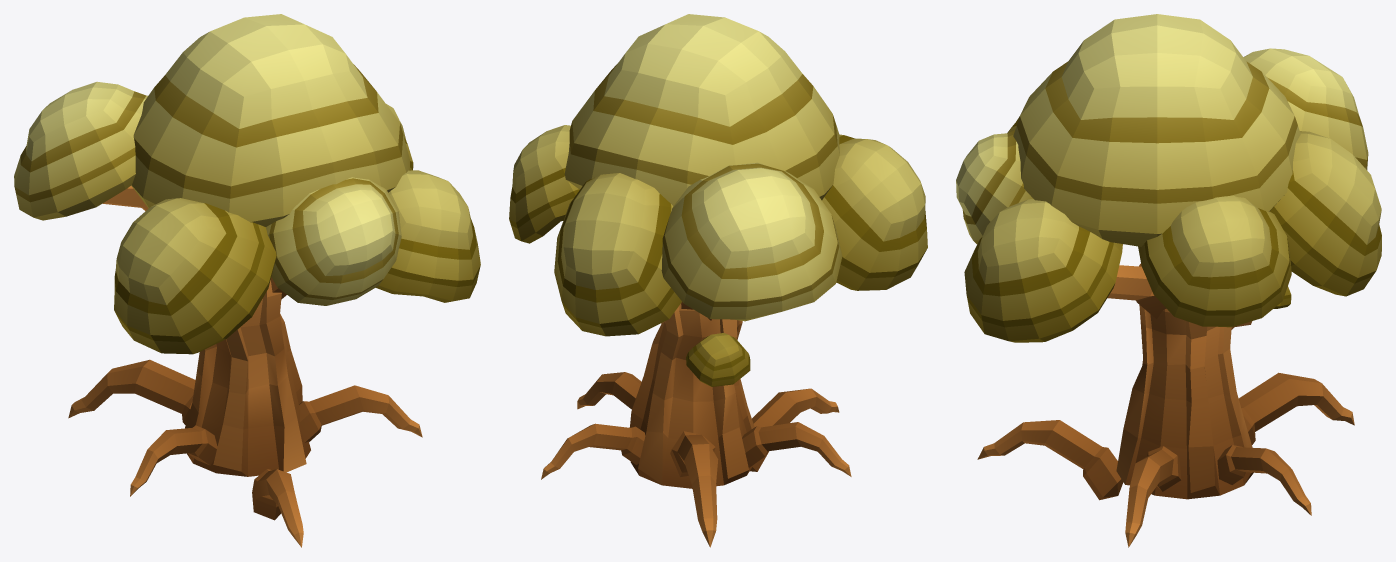
The model's file is Tree_Large_E.fbx.
The picture shows the model from 3 angles, left to right: view 1: azimuth 30°, elevation 25°; view 2: azimuth 150°, elevation 25°; view 3: azimuth 270°, elevation 25°; orthographic projection. The views are drawn at different scales.
Parts seen in each view (by area): view 1: Tree_Large_E; view 2: Tree_Large_E; view 3: Tree_Large_E.
Boxes of the visible parts, bbox=[...] form: Tree_Large_E: bbox=[14, 14, 480, 547]; Tree_Large_E: bbox=[509, 14, 927, 547]; Tree_Large_E: bbox=[956, 14, 1381, 547].
Bounding box in the file's own units: 237 × 307 × 244.
